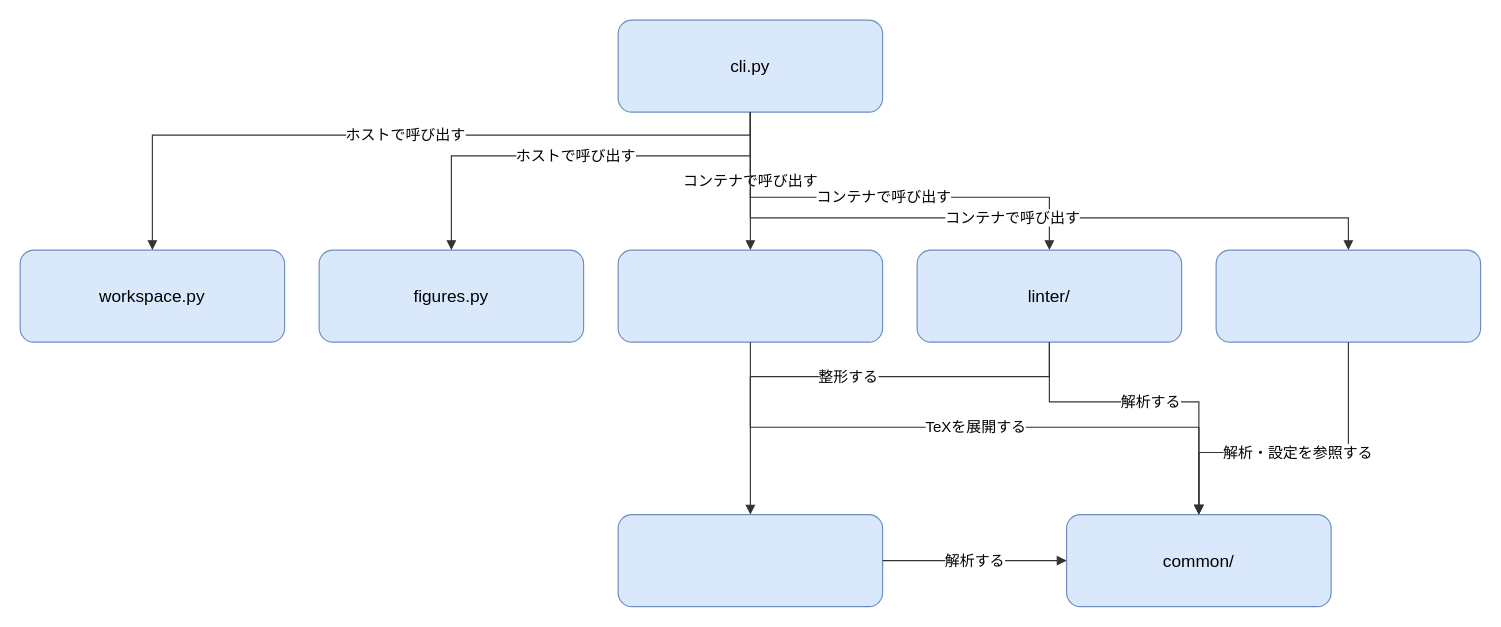
The diagram is 1501 pixels wide and 627 high, and some of its shapes have lost their labels. The centre of each missing label's shape, as x and y in pixels:
converter/: the point at 750,295
formatter/: the point at 750,560
reviewer/: the point at 1348,295
